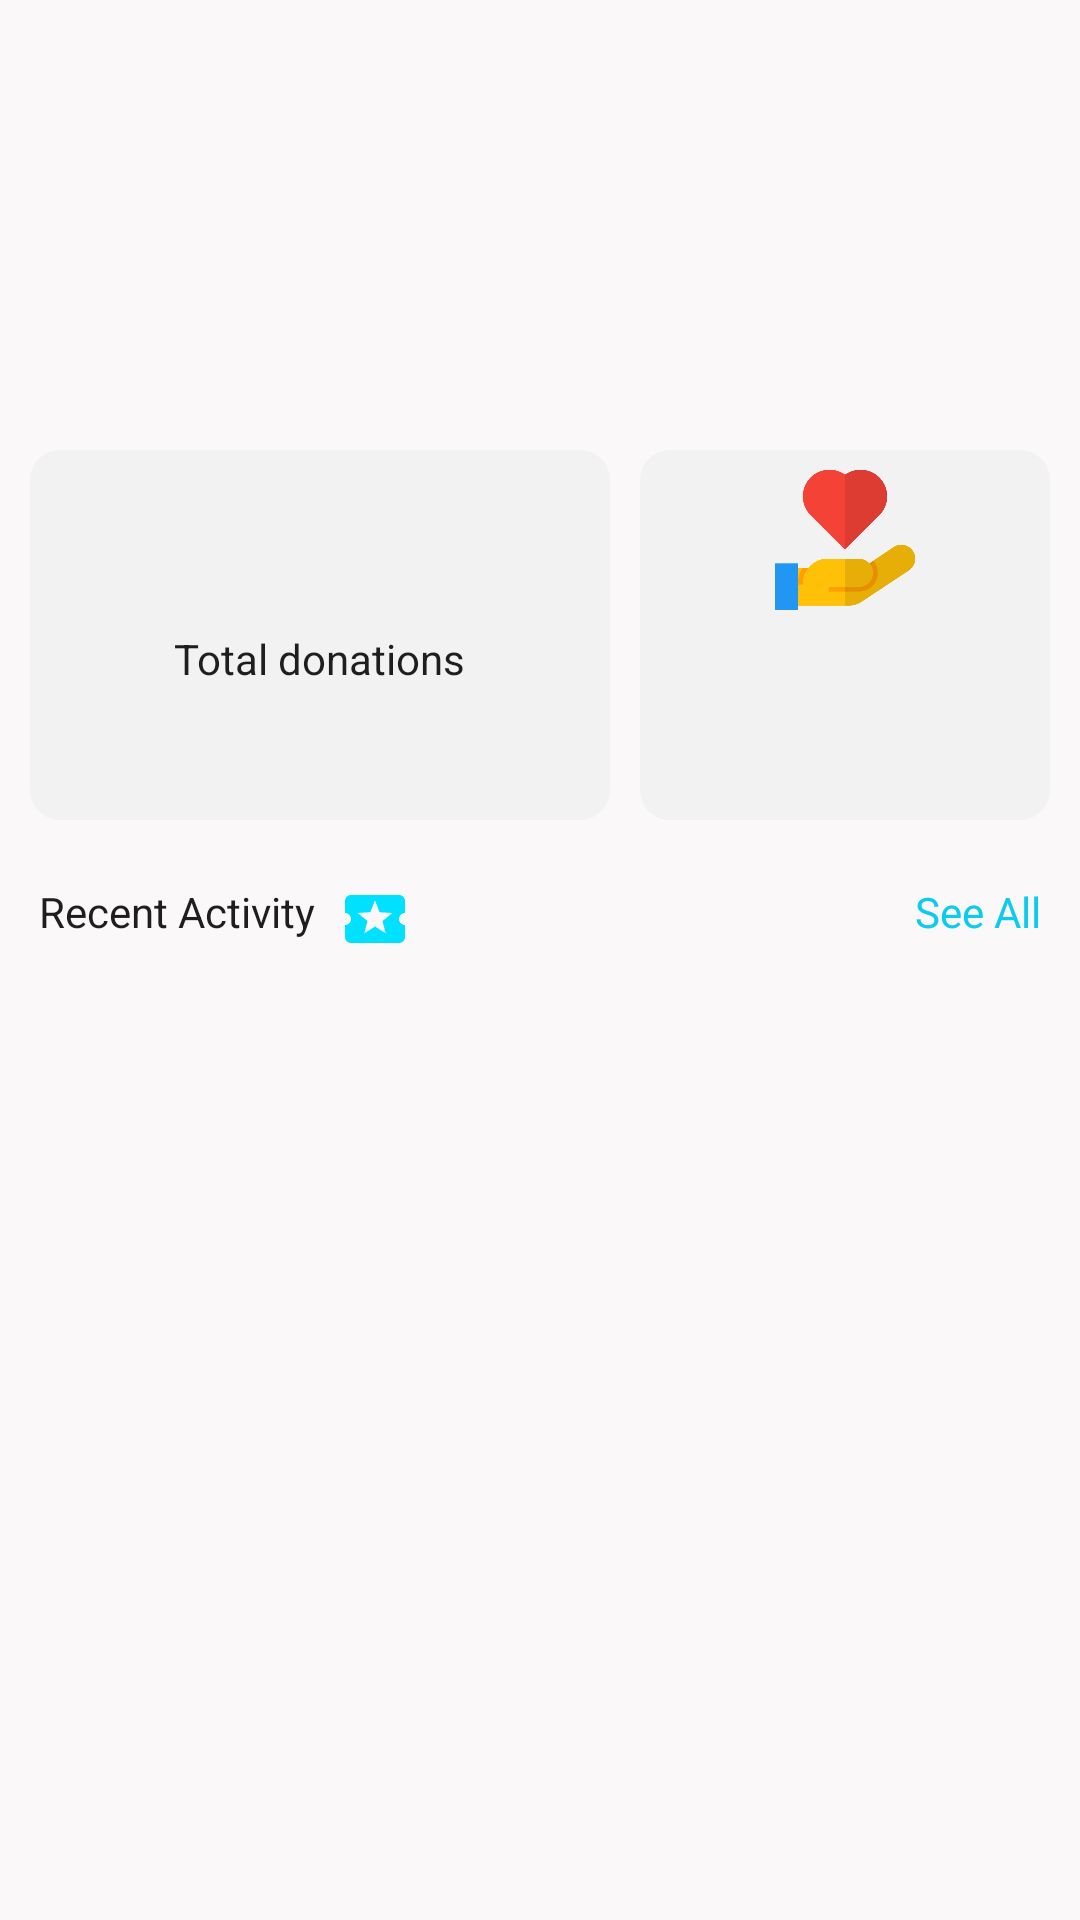

Named icons in this screenshot (1080w x 1920h) and their bounding boxes, (x1, y1, x2, y2):
love: (775, 470, 915, 610)
